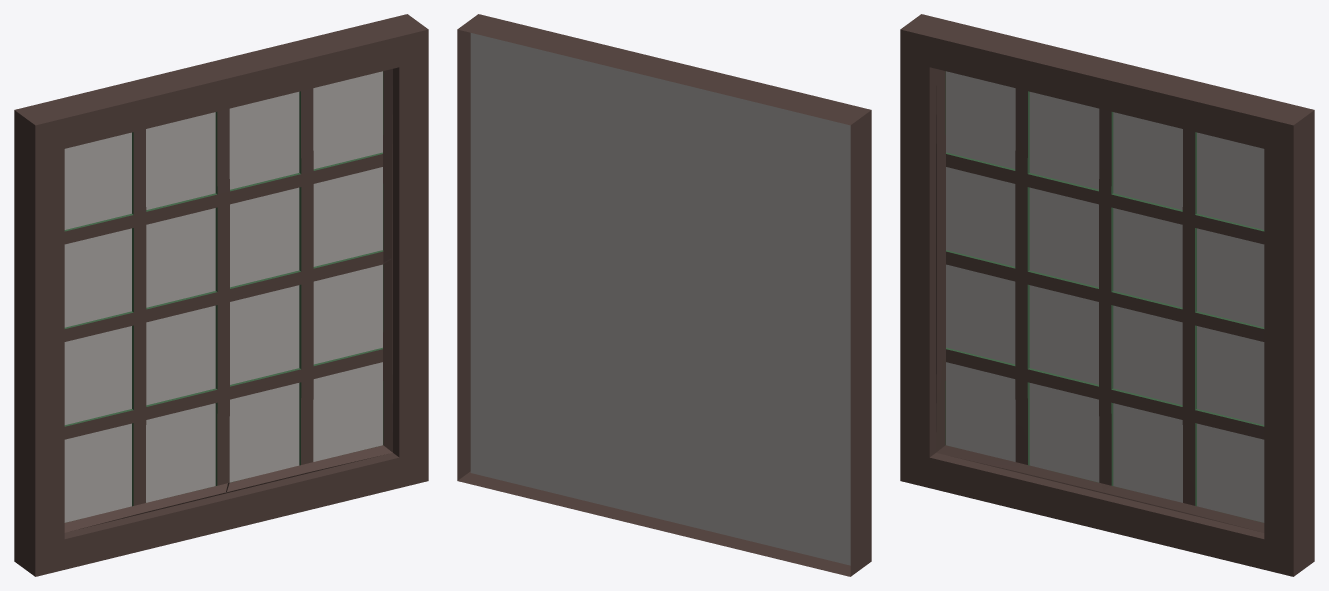
The model's file is SM_Env_Window_14.fbx.
The picture shows the model from 3 angles, left to right: view 1: azimuth 30°, elevation 25°; view 2: azimuth 150°, elevation 25°; view 3: azimuth 330°, elevation 25°; orthographic projection.
Parts seen in each view (by area): view 1: SM_Env_Window_14; view 2: SM_Env_Window_14; view 3: SM_Env_Window_14.
Part boxes in pixels (x1,y1,x2,y2): SM_Env_Window_14: [14, 14, 428, 576]; SM_Env_Window_14: [457, 14, 871, 576]; SM_Env_Window_14: [900, 14, 1314, 576].
Size of the model in its own units: 88.93 by 97.59 by 8.29.
Materials: 1 (1 with a texture image).
